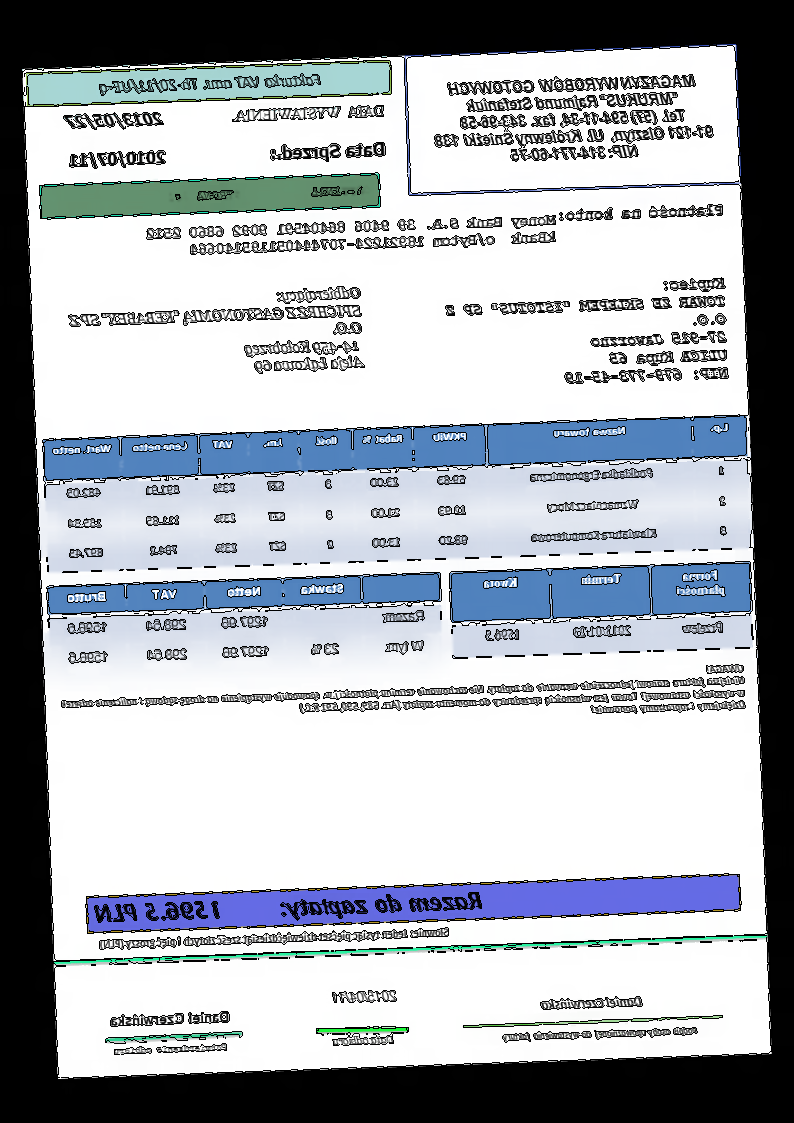Table: (38, 413, 753, 578), (46, 569, 444, 681), (448, 559, 754, 660)
TextBox: (58, 660, 751, 739), (441, 276, 732, 391), (65, 283, 367, 383), (426, 71, 719, 170), (144, 211, 558, 258), (91, 886, 489, 928), (97, 923, 453, 952), (96, 70, 326, 99), (164, 179, 373, 205), (500, 1023, 701, 1046), (229, 99, 388, 127), (555, 200, 728, 224), (268, 138, 388, 164), (108, 1008, 233, 1031), (66, 147, 170, 172), (62, 108, 170, 132), (110, 1040, 232, 1056), (539, 993, 646, 1011), (331, 987, 401, 1005), (330, 1033, 397, 1047)
